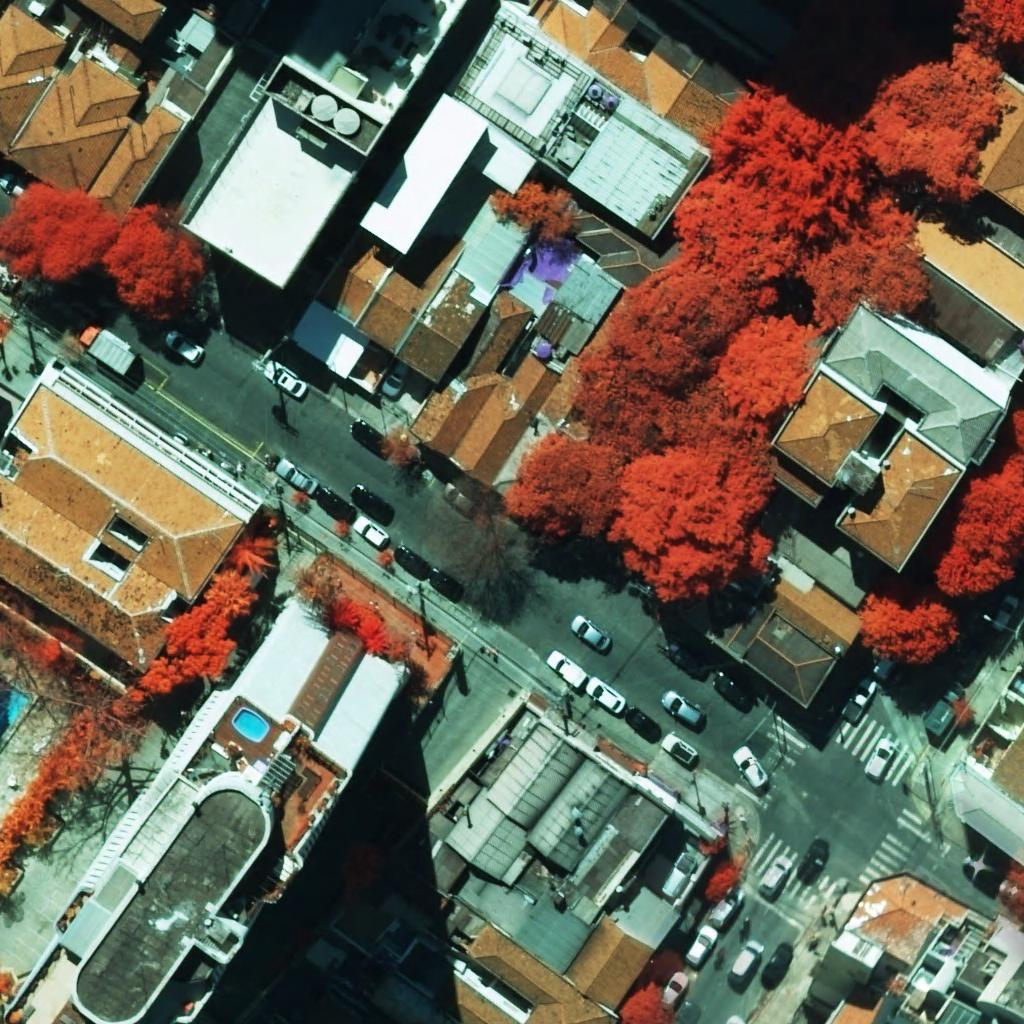pool: (233, 709, 268, 740)
